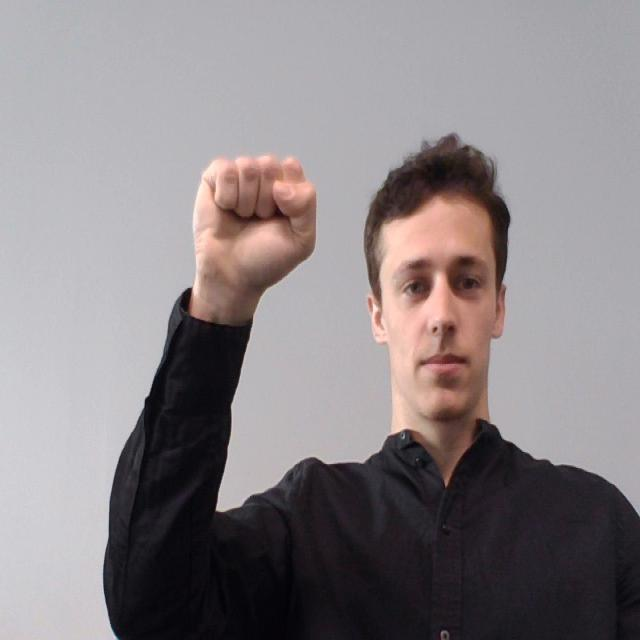stop: (185, 150, 328, 296)
